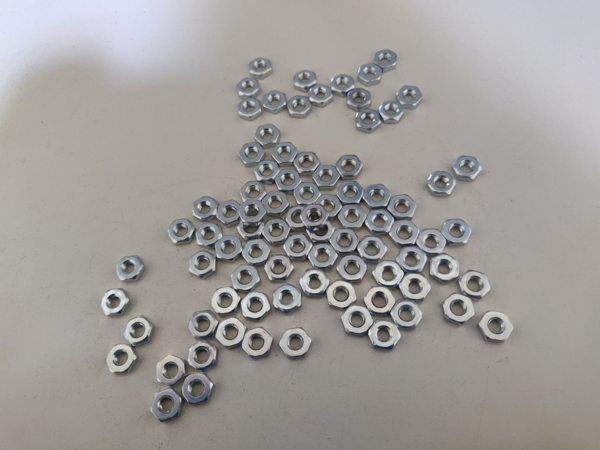nut: (341, 305, 375, 339), (479, 312, 514, 343), (442, 295, 476, 326), (183, 371, 213, 406), (398, 274, 433, 303), (153, 390, 182, 425), (157, 355, 188, 387), (429, 254, 462, 284), (107, 343, 137, 375), (281, 328, 312, 358), (243, 328, 273, 359), (370, 321, 402, 350), (327, 281, 359, 310), (396, 246, 427, 275), (188, 342, 219, 371), (357, 235, 390, 262), (190, 311, 219, 341), (167, 218, 196, 248), (460, 271, 491, 299), (364, 287, 395, 315), (442, 219, 471, 248), (338, 255, 367, 284), (242, 292, 270, 322), (392, 302, 423, 329), (218, 317, 245, 348), (102, 289, 129, 320), (453, 156, 485, 182), (187, 252, 219, 278), (284, 233, 312, 262), (213, 234, 242, 262), (212, 287, 239, 317), (232, 265, 260, 293), (274, 284, 301, 313), (243, 236, 270, 265), (427, 171, 457, 197), (308, 243, 338, 269), (117, 254, 143, 284), (389, 195, 418, 221), (331, 228, 360, 254), (300, 271, 329, 297), (313, 164, 342, 190), (124, 316, 151, 343), (264, 218, 291, 245), (338, 180, 366, 206), (192, 194, 220, 220), (242, 240, 271, 265), (373, 262, 403, 286), (237, 215, 267, 239), (390, 221, 418, 246), (239, 199, 267, 224), (194, 222, 222, 247), (365, 211, 396, 233), (240, 141, 266, 167), (355, 108, 381, 134), (417, 230, 444, 255), (266, 257, 293, 282), (216, 199, 241, 226), (340, 205, 366, 230), (364, 185, 390, 210), (277, 168, 302, 194), (253, 160, 280, 184), (398, 86, 425, 110), (262, 90, 286, 117), (264, 191, 290, 215), (248, 56, 274, 80), (337, 155, 364, 178), (256, 124, 283, 147), (316, 195, 341, 219), (237, 97, 262, 121), (300, 205, 326, 228), (308, 84, 334, 107), (381, 101, 405, 125), (237, 75, 261, 99), (295, 152, 318, 177), (309, 220, 334, 243), (294, 184, 320, 206), (273, 143, 299, 164), (240, 182, 266, 203), (357, 64, 380, 87), (287, 206, 309, 230), (294, 69, 318, 91), (375, 49, 397, 71), (331, 74, 353, 96), (289, 95, 309, 119)
